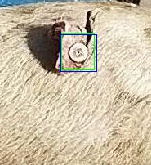text: (61, 33, 94, 69)
